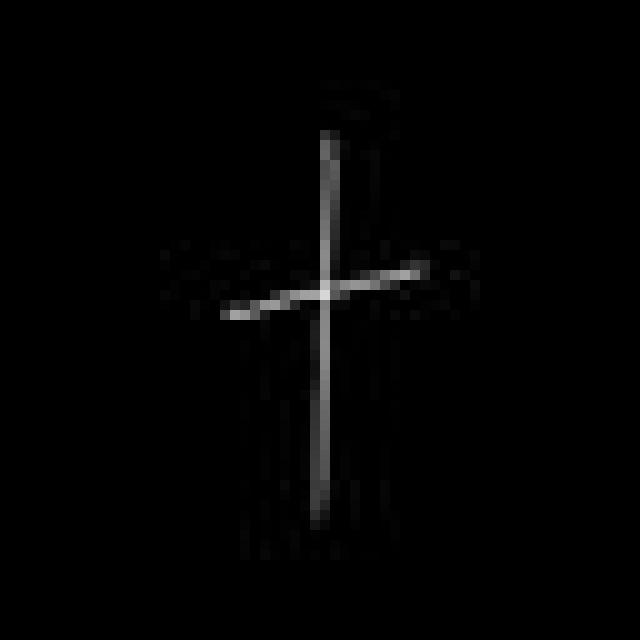10 -ten-: (212, 128, 430, 532)
